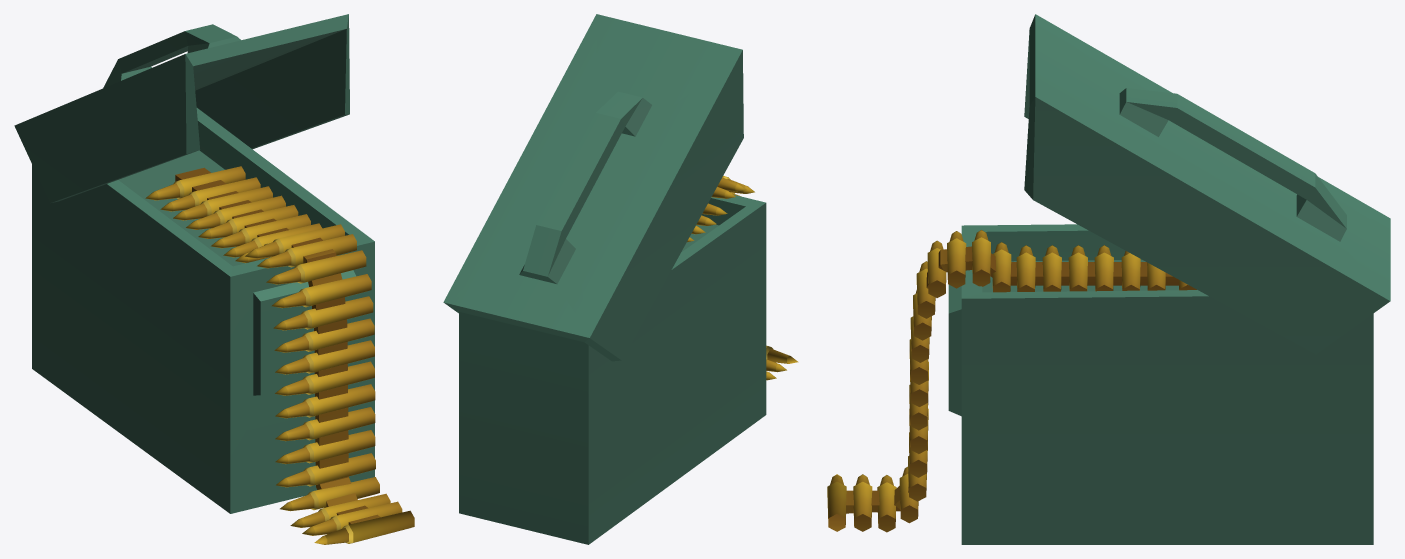
File: Chaingun_Box.fbx
The picture shows the model from 3 angles, left to right: view 1: azimuth 30°, elevation 25°; view 2: azimuth 150°, elevation 25°; view 3: azimuth 270°, elevation 25°; orthographic projection. The views are drawn at different scales.
Visible parts, largest first — view 1: Chaingun_Box, Chaingun_Ammo; view 2: Chaingun_Box, Chaingun_Ammo; view 3: Chaingun_Box, Chaingun_Ammo.
Part boxes in pixels (x1,y1,x2,y2): Chaingun_Box: (14, 14, 374, 513); Chaingun_Ammo: (145, 166, 414, 544); Chaingun_Box: (443, 14, 766, 544); Chaingun_Ammo: (687, 176, 798, 380); Chaingun_Box: (948, 14, 1390, 544); Chaingun_Ammo: (827, 230, 1196, 532).
Size of the model in its own units: 44.26 by 113 by 127.
